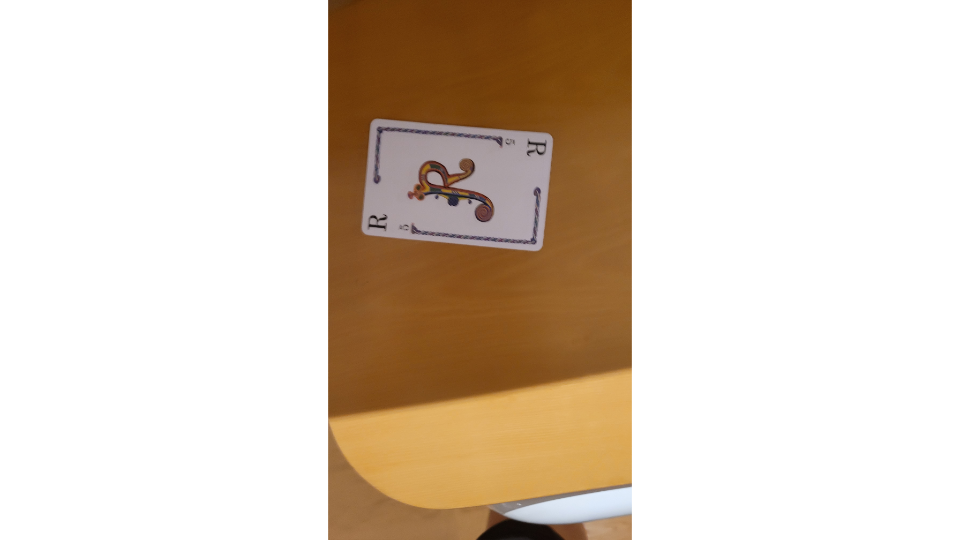R: (357, 115, 557, 257)
